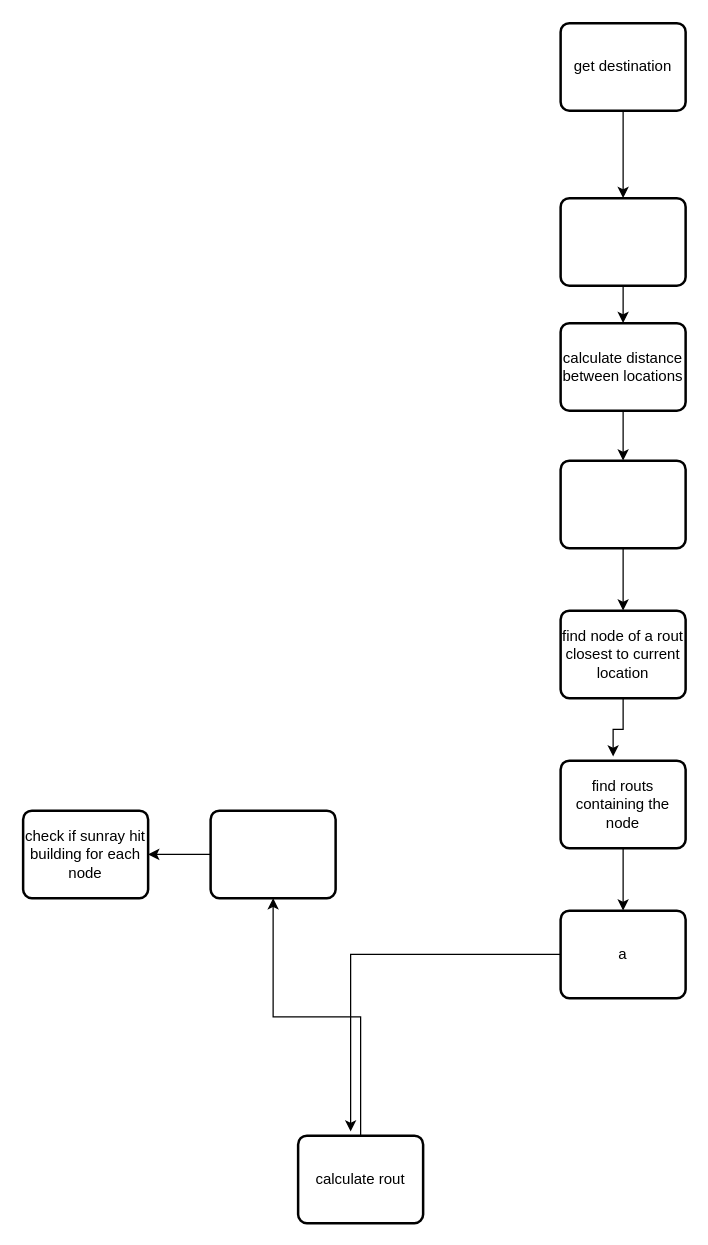
This 708x1245 diagram has some shape labels left out. The centre of each missing label's shape, as x and y in pixels:
"get current location" goes at (622,241).
"iterate though nodes of rout" goes at (272,854).
"load data from openstreetmap with margin" goes at (622,504).
